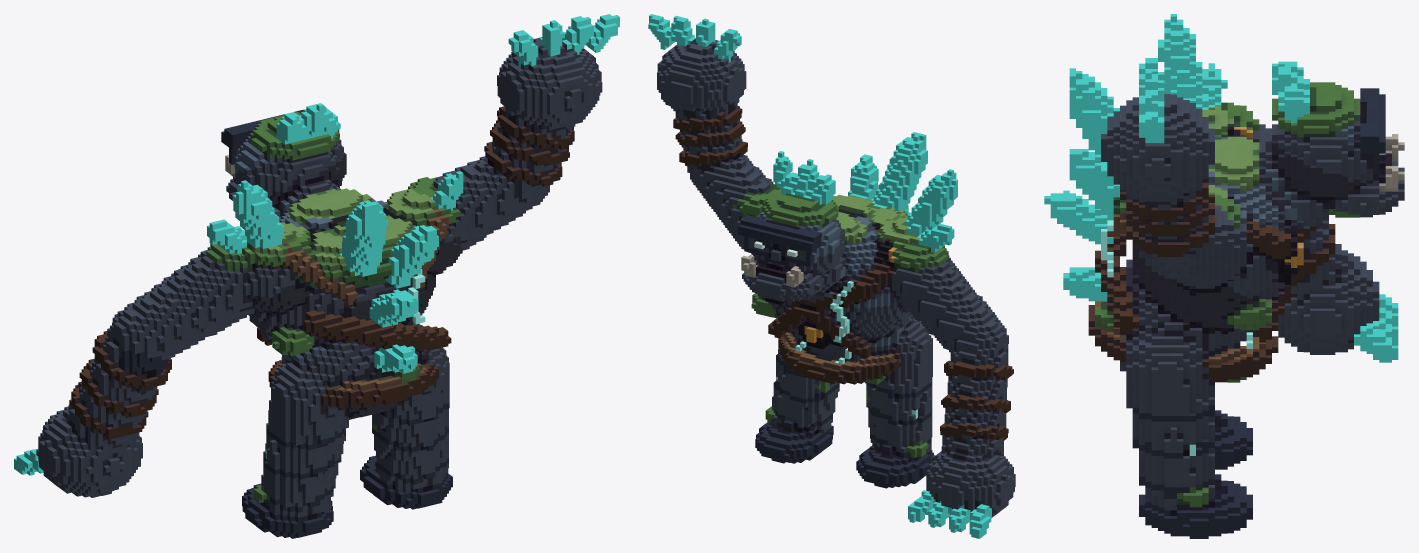
Rendered from RootWarden.glb.
3 views of the same model, side by side, from view 1: azimuth 30°, elevation 25°; view 2: azimuth 150°, elevation 25°; view 3: azimuth 270°, elevation 25° (orthographic). The views are drawn at different scales.
Visible parts, largest first — view 1: Body__Tex, ArmL2__Tex, LegL__Tex, ArmR2__Tex, Body__Crystal, LegR__Tex, ArmL__Tex, Head__Tex, ArmR__Tex, ArmR2__Crystal, Head__Crystal; view 2: Body__Tex, ArmL2__Tex, ArmR2__Tex, LegL__Tex, Body__Crystal, ArmL__Tex, Head__Tex, LegR__Tex, ArmR__Tex, Jaw__Tex, ArmR2__Crystal, ArmL2__Crystal (+2 smaller); view 3: Body__Tex, LegR__Tex, ArmR2__Tex, Body__Crystal, Head__Tex, ArmL2__Tex, ArmR__Tex, Jaw__Tex, ArmR2__Crystal, ArmL2__Crystal, Head__Crystal, LegL__Tex (+2 smaller).
Part boxes in pixels (x1,y1,x2,y2): Body__Tex: (242, 179, 462, 419); ArmL2__Tex: (36, 302, 171, 497); LegL__Tex: (242, 360, 350, 538); ArmR2__Tex: (484, 37, 602, 209); Body__Crystal: (207, 171, 463, 373); LegR__Tex: (360, 347, 452, 509); ArmL__Tex: (132, 229, 256, 360); Head__Tex: (221, 110, 346, 208); ArmR__Tex: (404, 156, 528, 250); ArmR2__Crystal: (508, 14, 619, 67); Head__Crystal: (276, 103, 340, 144); Body__Tex: (751, 194, 920, 384); ArmL2__Tex: (926, 317, 1015, 517); ArmR2__Tex: (657, 38, 747, 192); LegL__Tex: (856, 316, 934, 488); Body__Crystal: (773, 132, 957, 252); ArmL__Tex: (886, 242, 998, 352); Head__Tex: (737, 191, 844, 275); LegR__Tex: (755, 338, 839, 463); ArmR__Tex: (697, 155, 780, 252); Jaw__Tex: (741, 255, 824, 301); ArmR2__Crystal: (648, 14, 741, 62); ArmL2__Crystal: (908, 490, 991, 538); Body__Tex: (1088, 105, 1328, 382); LegR__Tex: (1120, 328, 1252, 538); ArmR2__Tex: (1101, 94, 1214, 277); Body__Crystal: (1044, 14, 1227, 301); Head__Tex: (1272, 82, 1385, 202); ArmL2__Tex: (1278, 220, 1379, 354); ArmR__Tex: (1158, 192, 1246, 288); Jaw__Tex: (1329, 134, 1404, 217); ArmR2__Crystal: (1139, 58, 1164, 143); ArmL2__Crystal: (1354, 294, 1398, 362); Head__Crystal: (1272, 61, 1385, 154); LegL__Tex: (1215, 410, 1252, 469).
Size of the model in its own units: 17.51 by 15.47 by 9.69.
